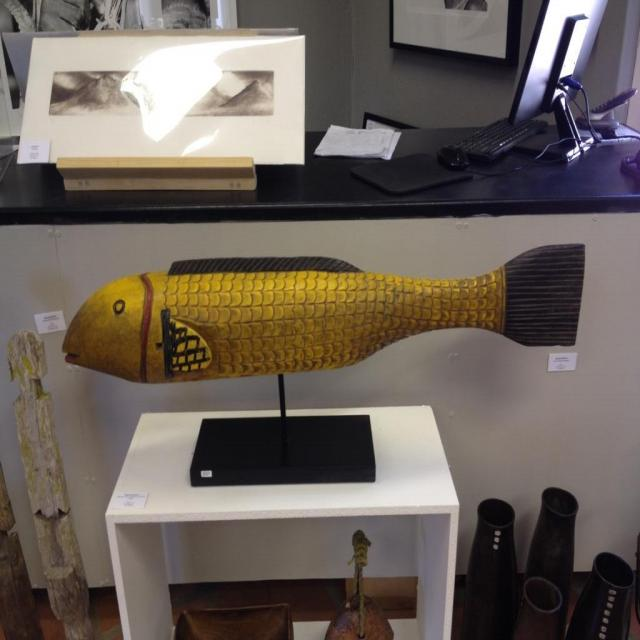table: (86, 372, 480, 630)
